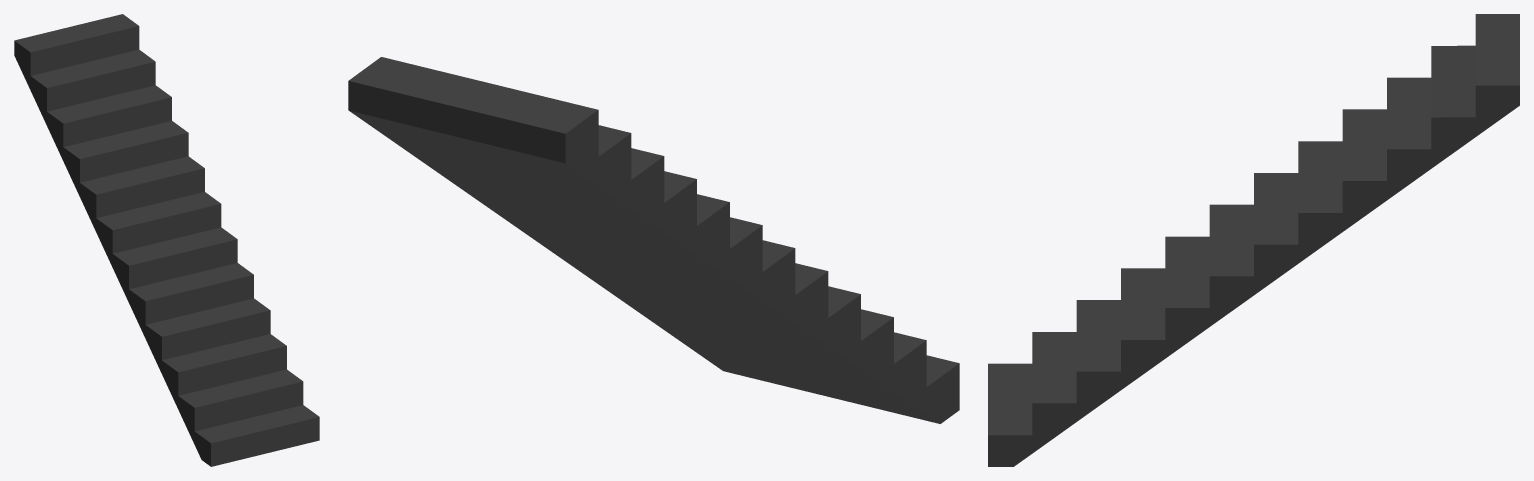
File: Stairs_046.glb
3 renders of one model, left to right at view 1: azimuth 30°, elevation 25°; view 2: azimuth 150°, elevation 25°; view 3: azimuth 270°, elevation 25°, orthographic. The views are drawn at different scales.
Parts seen in each view (by area): view 1: Stairs_046; view 2: Stairs_046; view 3: Stairs_046.
Boxes of the visible parts, x1,y1,x2,y2 form: Stairs_046: (14, 14, 319, 466); Stairs_046: (348, 57, 959, 423); Stairs_046: (988, 14, 1519, 466).
Size of the model in its own units: 1.62 by 4.02 by 5.08.
Materials: 1 (1 with a texture image).
